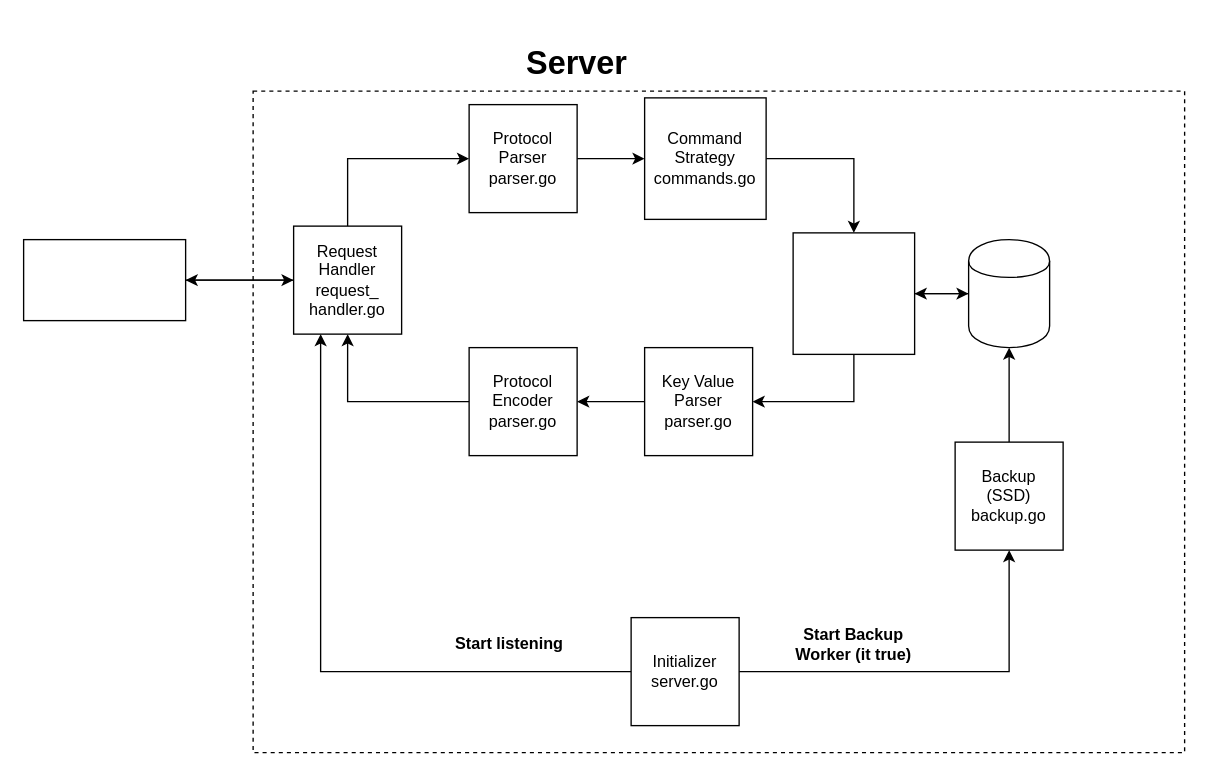
This 1208x776 diagram has some shape labels left out. The shapes that lost their labels are listed below. From the top down, each one's centre as x and y in pixels, then its label:
At (x=104, y=279): "Client".
At (x=853, y=293): "Data Adapter data_adapter.go".
At (x=1008, y=293): "Data (variable)".
